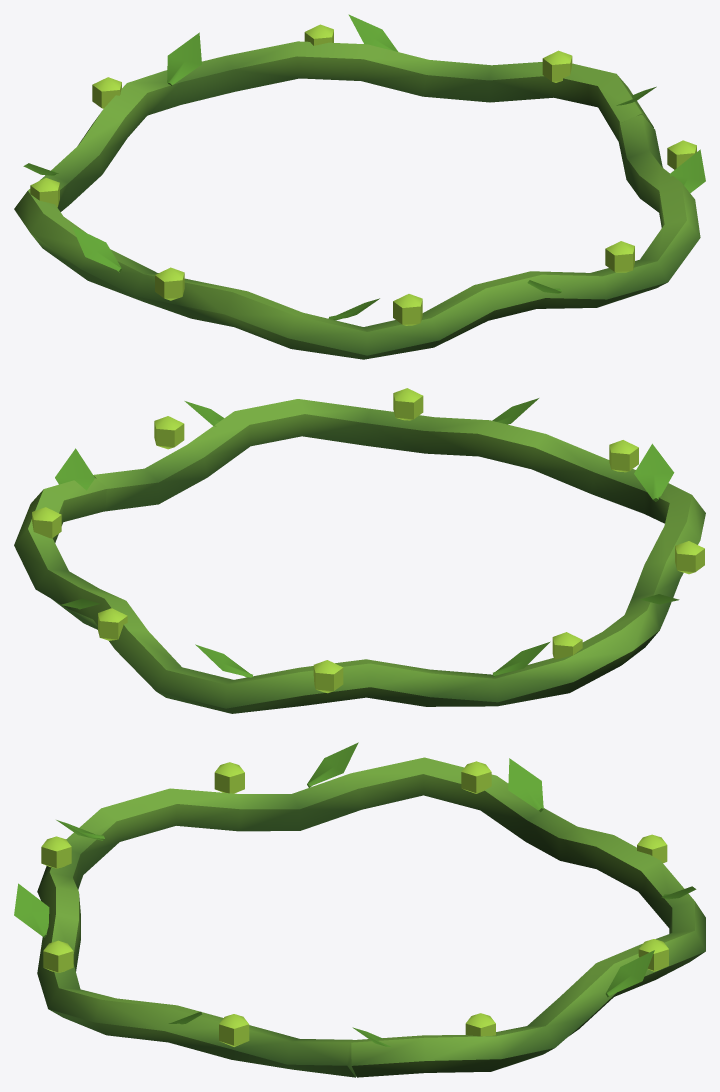
Rendered from EvoRoot.fbx.
3 renders of one model, top to bottom at view 1: azimuth 30°, elevation 25°; view 2: azimuth 150°, elevation 25°; view 3: azimuth 270°, elevation 25°, orthographic.
Visible parts, largest first — view 1: Mesh; view 2: Mesh; view 3: Mesh.
Boxes of the visible parts, <box> form: Mesh: <box>14,14,705,359</box>; Mesh: <box>14,388,705,713</box>; Mesh: <box>14,742,705,1077</box>.
Bounding box in the file's own units: 0.7514 × 0.0734 × 0.7513.
